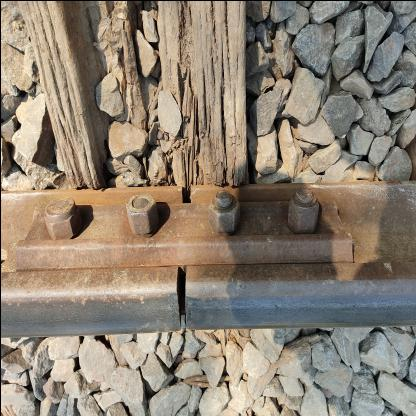Non Defective 2: (141, 241, 225, 345)
Non Defective 3: (1, 156, 352, 271)
